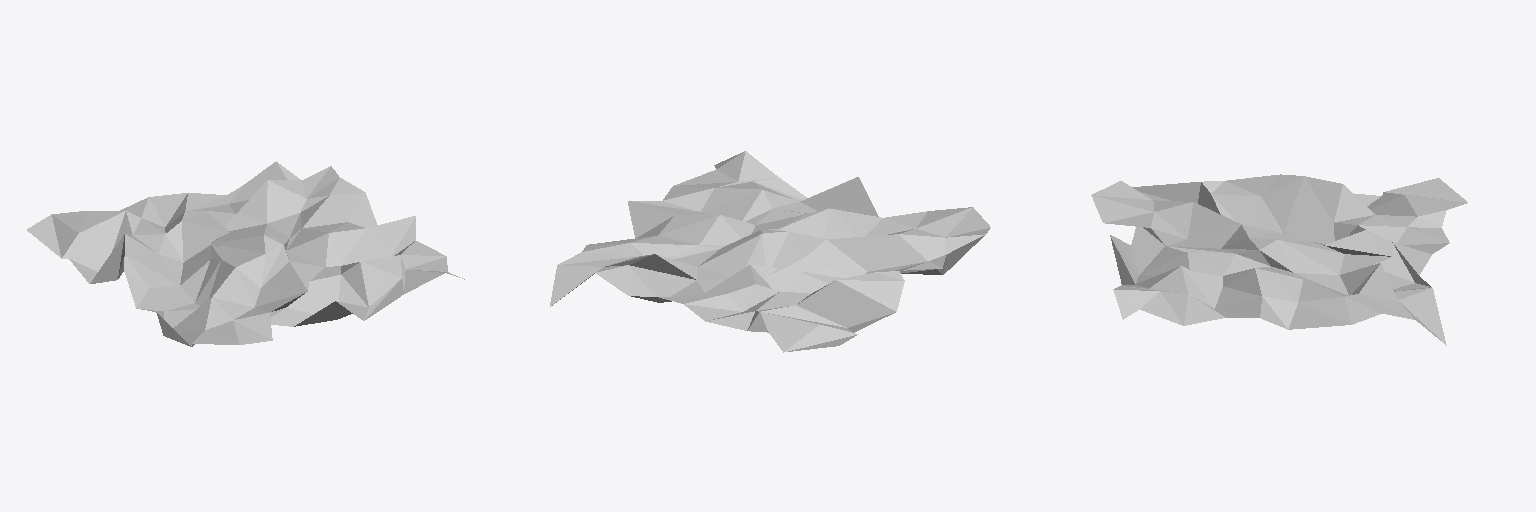
The model's file is CampFireBase.obj.
The picture shows the model from 3 angles: view 1: azimuth 30°, elevation 25°; view 2: azimuth 150°, elevation 25°; view 3: azimuth 270°, elevation 25°; orthographic projection.
Visible parts, largest first — view 1: Grid; view 2: Grid; view 3: Grid.
Part boxes in pixels (x1,y1,x2,y2): Grid: (27, 161, 464, 346); Grid: (550, 151, 990, 352); Grid: (1091, 174, 1467, 345).
Size of the model in its own units: 2.15 by 0.3248 by 2.34.